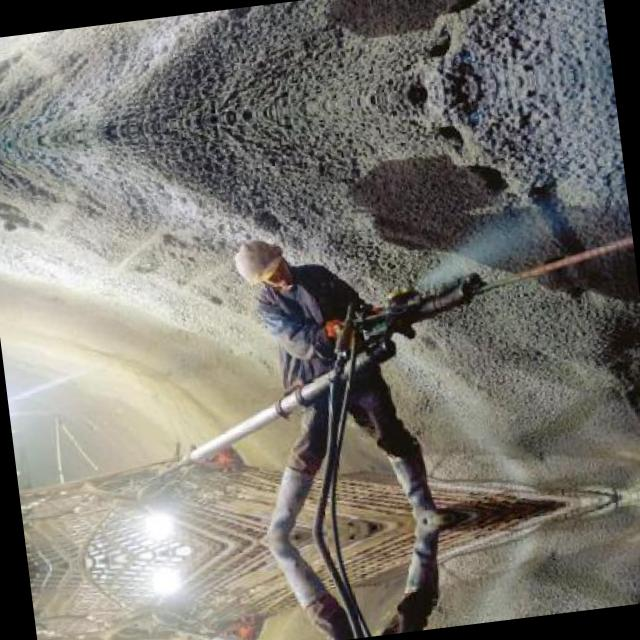helmet: (230, 234, 294, 293)
